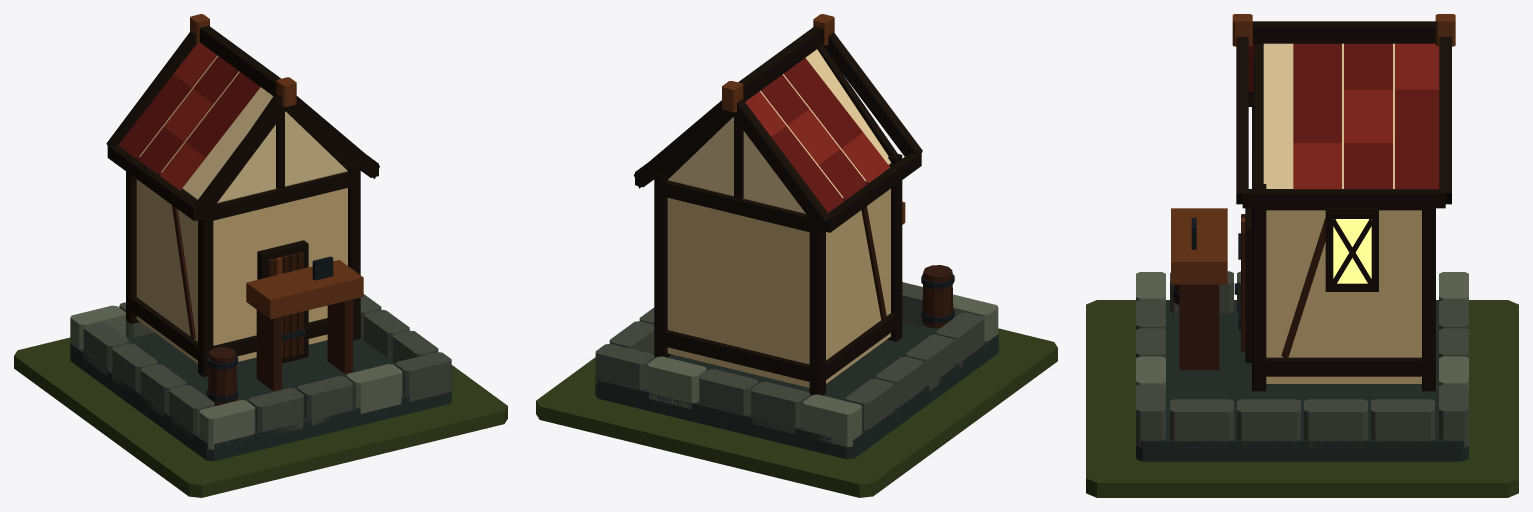
The model's file is butchery_t1.glb.
3 views of the same model, side by side, from view 1: azimuth 30°, elevation 25°; view 2: azimuth 150°, elevation 25°; view 3: azimuth 270°, elevation 25° (orthographic). The views are drawn at different scales.
Parts seen in each view (by area): view 1: MMR | butchery | T01 Architecture.001, MMR | butchery | Tier 01 Ground.001; view 2: MMR | butchery | T01 Architecture.001, MMR | butchery | Tier 01 Ground.001; view 3: MMR | butchery | T01 Architecture.001, MMR | butchery | Tier 01 Ground.001.
Boxes of the visible parts, x1,y1,x2,y2 form: MMR | butchery | T01 Architecture.001: (70,14,451,461); MMR | butchery | Tier 01 Ground.001: (14,337,507,497); MMR | butchery | T01 Architecture.001: (595,14,998,459); MMR | butchery | Tier 01 Ground.001: (536,328,1057,497); MMR | butchery | T01 Architecture.001: (1136,14,1468,461); MMR | butchery | Tier 01 Ground.001: (1086,300,1518,497).
Size of the model in its own units: 1.3 by 1.29 by 1.3.
Materials: 2 (1 with a texture image).
